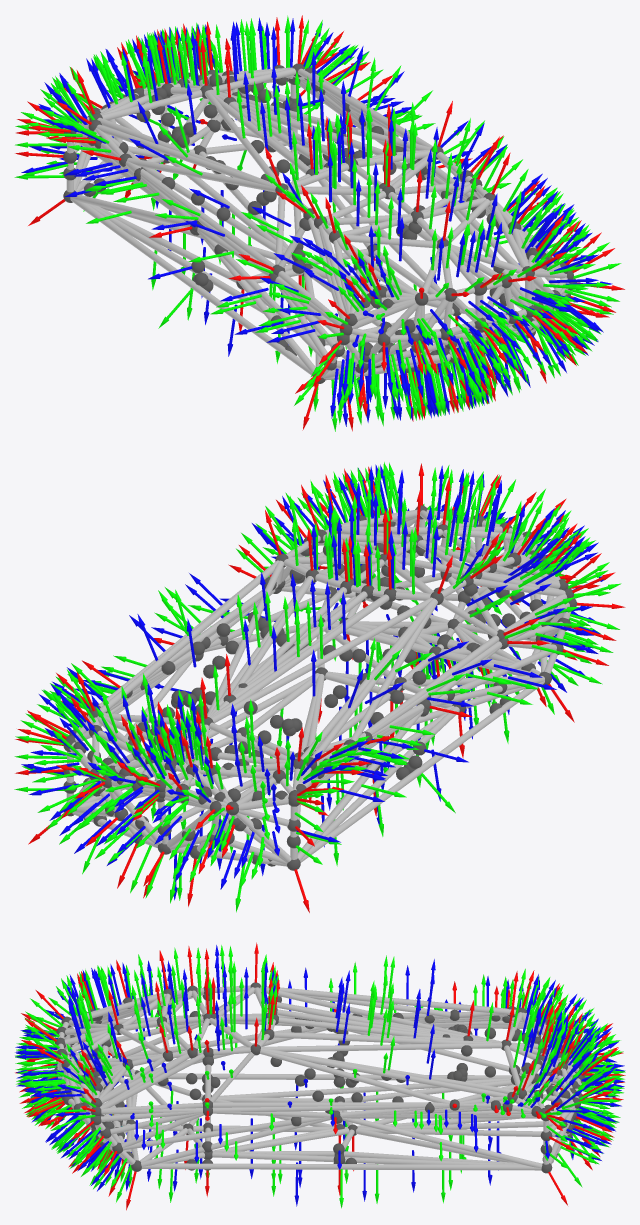
The model's file is t2f_car_93.gltf.
3 views of the same model, one above another, from view 1: azimuth 30°, elevation 25°; view 2: azimuth 150°, elevation 25°; view 3: azimuth 270°, elevation 25° (orthographic). The views are drawn at different scales.
Size of the model in its own units: 0.5322 by 0.3741 by 1.06.
